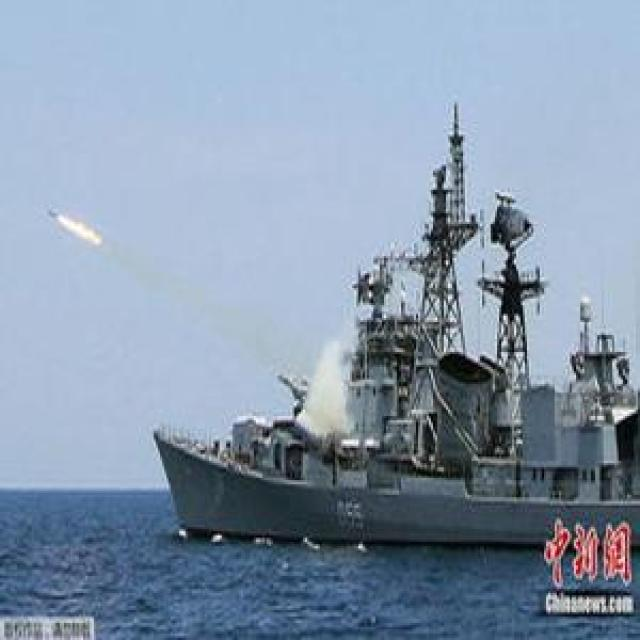navalvessels: (111, 124, 640, 548)
